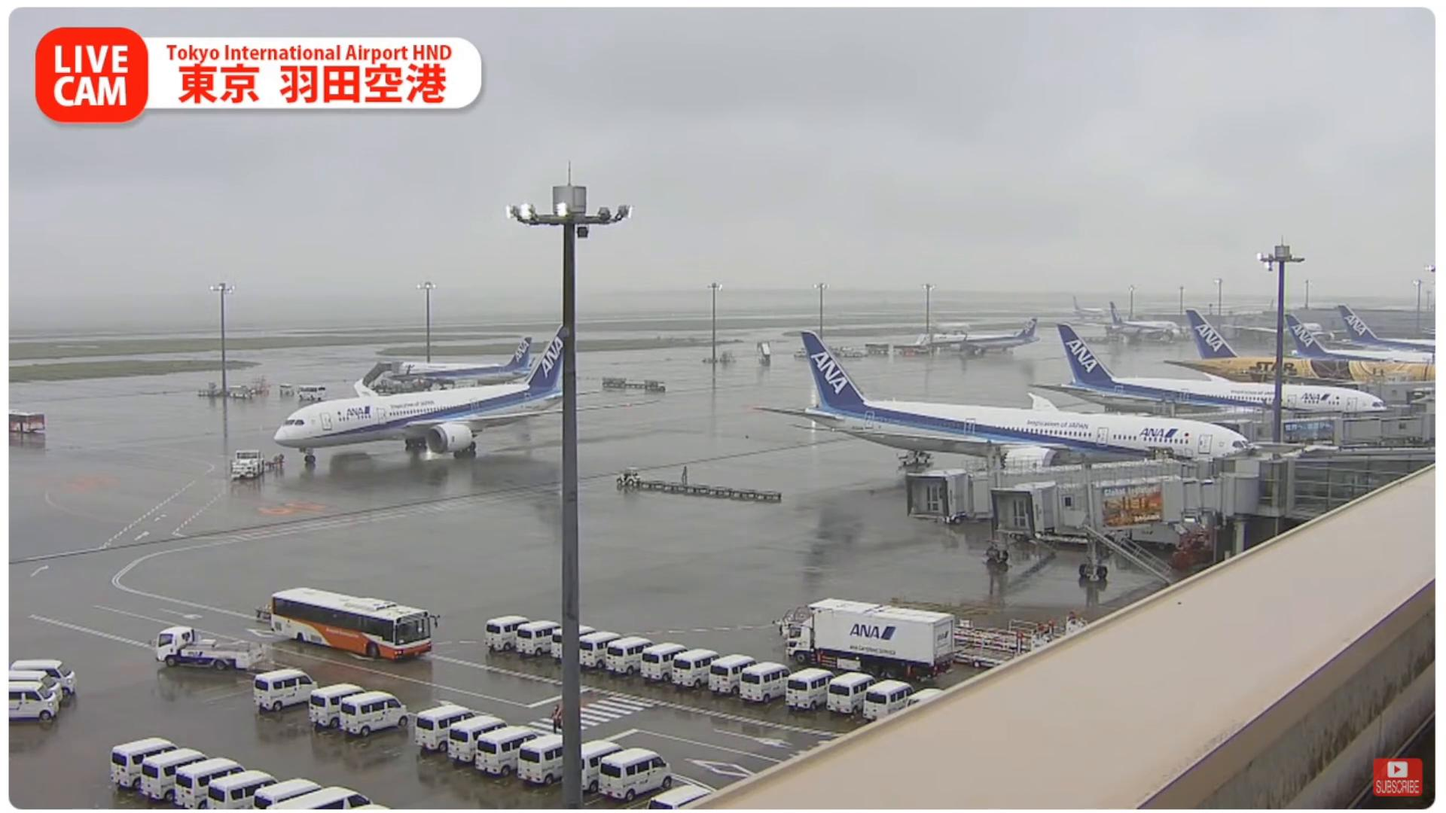APS: (230, 448, 264, 478)
Aerobridge: (904, 455, 1210, 522), (991, 474, 1261, 535)
Airplane: (272, 327, 655, 465)
Catering: (772, 597, 954, 681)
JCPL: (953, 615, 1087, 656), (953, 645, 1024, 671)
Window: (1292, 458, 1433, 516)
